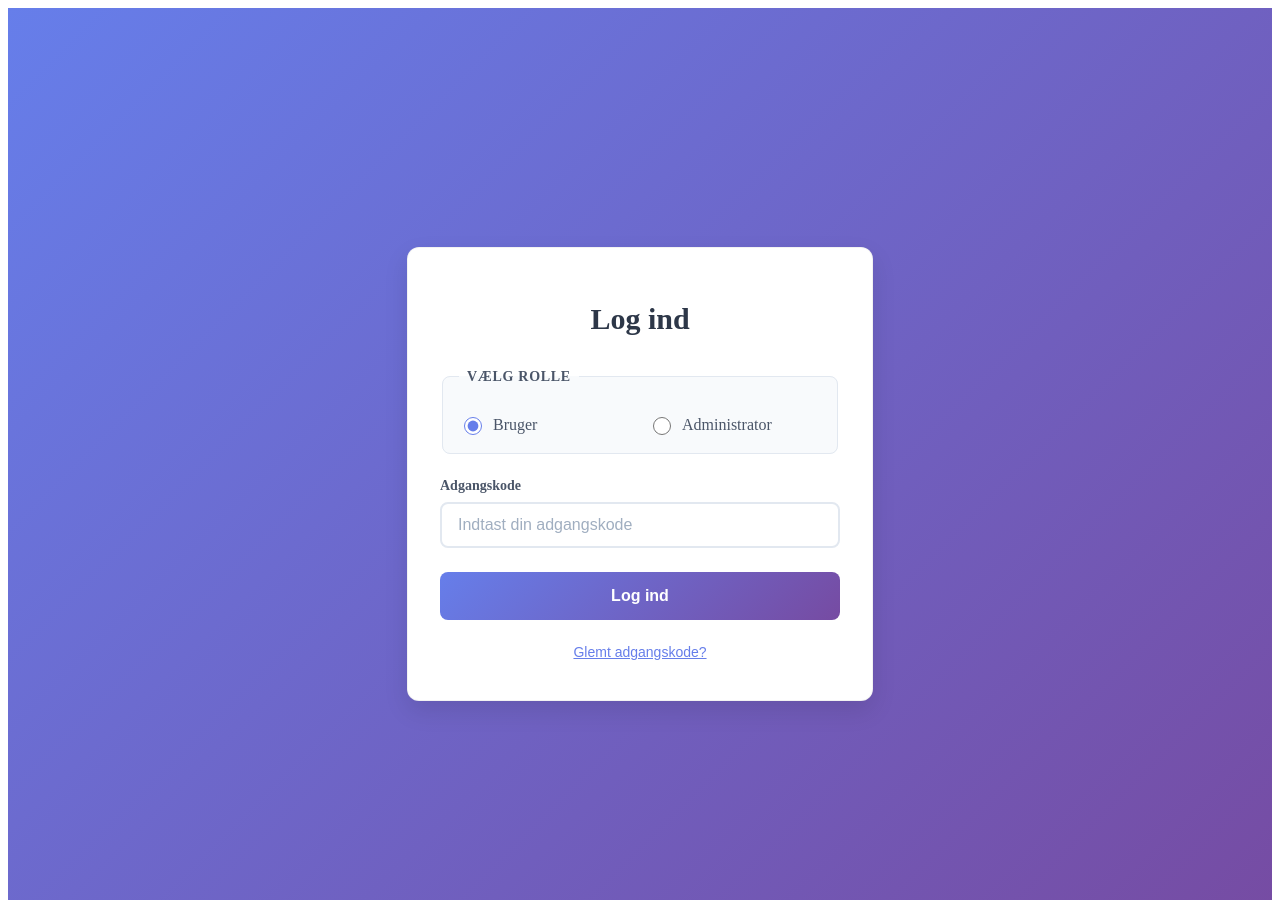
Test case: LoginForm › displays validation error for empty password
The width and height of the screenshot is (1280, 900).
// Try to submit without entering password
Click the button with test id "login-submit": point(640, 596) 440,572 -> 840,620
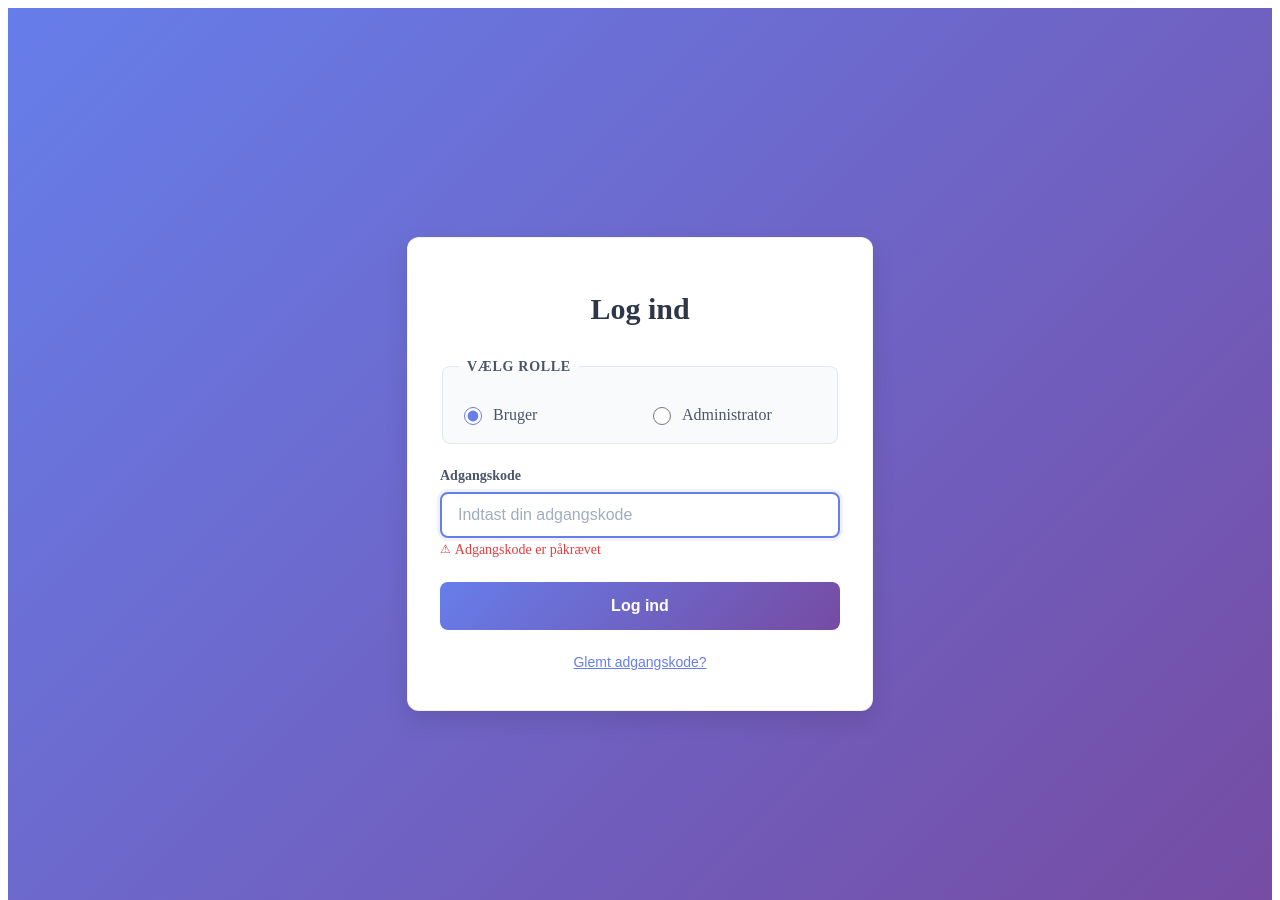
Result: the text "Adgangskode er påkrævet" is shown at 455,542 -> 601,556
